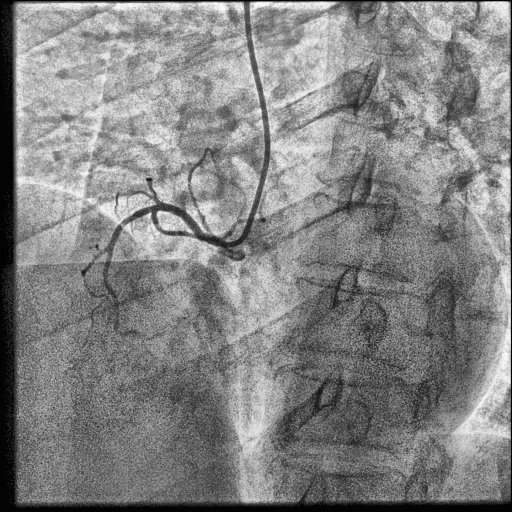rca: (103, 204, 223, 329)
